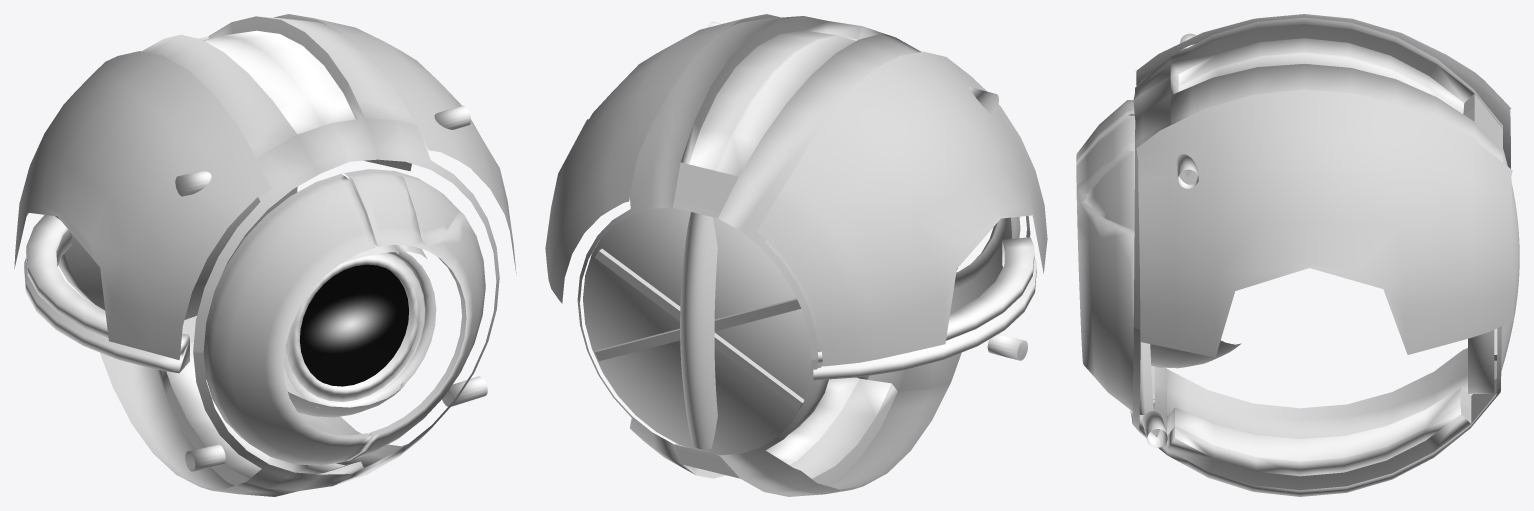
Rendered from wheatley.glb.
3 renders of one model, left to right at view 1: azimuth 30°, elevation 25°; view 2: azimuth 150°, elevation 25°; view 3: azimuth 270°, elevation 25°, orthographic.
Parts seen in each view (by area): view 1: Outer Shell.002, eye Rim.001, Eye Plate.001, Inner Shell.006, Inner Shell.007, Inner Shell.004, Outer Shell.003, Circle.038, Inner Shell.005, Circle.034, Sphere.001, Bolt 4.007 (+4 smaller); view 2: Outer Shell.002, Circle.034, Inner Shell.007, Inner Shell.006, Inner Shell.004, Outer Shell.003, SurfPatch.002, Circle.038, Inner Shell.005, eye Rim.001, Plane.025, Plane.024 (+3 smaller); view 3: Outer Shell.003, Inner Shell.004, eye Rim.001, Inner Shell.007, Inner Shell.005, Inner Shell.006, Outer Shell.002, Circle.034, Sphere.001, SurfPatch.002, Bolt 4.007, Bolt 4.004.
Boxes of the visible parts, <box> form: Outer Shell.002: <box>14,51,270,360</box>; eye Rim.001: <box>203,169,485,465</box>; Eye Plate.001: <box>283,251,436,407</box>; Inner Shell.006: <box>142,34,350,353</box>; Inner Shell.007: <box>199,16,499,280</box>; Inner Shell.004: <box>58,264,351,496</box>; Outer Shell.003: <box>273,14,516,275</box>; Circle.038: <box>24,215,189,373</box>; Inner Shell.005: <box>182,277,499,485</box>; Circle.034: <box>55,187,297,319</box>; Sphere.001: <box>287,382,405,417</box>; Bolt 4.007: <box>442,376,487,406</box>; Outer Shell.002: <box>757,51,1047,366</box>; Circle.034: <box>583,207,828,455</box>; Inner Shell.007: <box>577,16,862,302</box>; Inner Shell.006: <box>695,26,1030,359</box>; Inner Shell.004: <box>696,229,1030,496</box>; Outer Shell.003: <box>545,14,780,303</box>; SurfPatch.002: <box>680,212,717,449</box>; Circle.038: <box>813,237,1036,380</box>; Inner Shell.005: <box>577,301,868,478</box>; eye Rim.001: <box>950,216,1020,312</box>; Plane.025: <box>714,333,804,409</box>; Plane.024: <box>595,248,680,321</box>; Outer Shell.003: <box>1136,89,1513,357</box>; Inner Shell.004: <box>1130,348,1496,461</box>; eye Rim.001: <box>1076,100,1154,414</box>; Inner Shell.007: <box>1133,52,1502,329</box>; Inner Shell.005: <box>1130,326,1501,496</box>; Inner Shell.006: <box>1133,17,1502,139</box>; Outer Shell.002: <box>1136,14,1511,168</box>; Circle.034: <box>1468,330,1494,393</box>; Sphere.001: <box>1150,340,1241,368</box>; SurfPatch.002: <box>1494,149,1519,379</box>; Bolt 4.007: <box>1142,411,1167,447</box>; Bolt 4.004: <box>1176,154,1198,188</box>.
Size of the model in its own units: 1.99 by 1.96 by 1.85.
5 materials, 1 textured.
